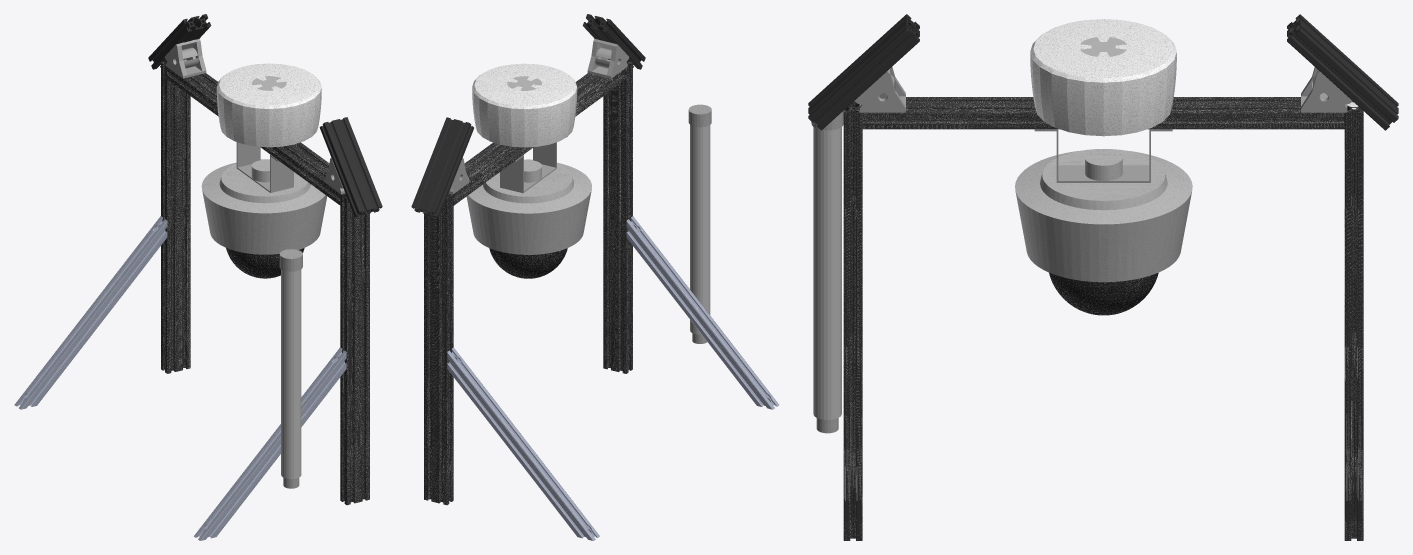
Rendered from sensorArch.dae.
3 renders of one model, left to right at view 1: azimuth 30°, elevation 25°; view 2: azimuth 150°, elevation 25°; view 3: azimuth 270°, elevation 25°, orthographic. The views are drawn at different scales.
Visible parts, largest first — view 1: Component_5 (×6), Component2_1 (×2), Component_8 (×2), Component_9, Component_6 (×2); view 2: Component_5 (×6), Component2_1 (×2), Component_8 (×2), Component_9, Component_6 (×2); view 3: Component_5 (×3), Component2_1 (×3), Component_8 (×2), Component_6 (×4), Component_9.
Boxes of the visible parts, bbox=[...] form: Component_5 (×6): bbox=[14, 58, 369, 540]; Component2_1 (×2): bbox=[201, 159, 327, 278]; Component_8 (×2): bbox=[148, 14, 382, 217]; Component_9: bbox=[236, 142, 293, 192]; Component_6 (×2): bbox=[164, 39, 206, 78]; Component_5 (×6): bbox=[424, 58, 779, 540]; Component2_1 (×2): bbox=[466, 159, 591, 278]; Component_8 (×2): bbox=[411, 14, 645, 217]; Component_9: bbox=[500, 142, 556, 193]; Component_6 (×2): bbox=[587, 39, 629, 78]; Component_5 (×3): bbox=[813, 19, 1363, 540]; Component2_1 (×3): bbox=[1015, 149, 1192, 315]; Component_8 (×2): bbox=[808, 14, 1398, 130]; Component_6 (×4): bbox=[854, 67, 1352, 112]; Component_9: bbox=[1034, 129, 1172, 182].
Bounding box in the file's own units: 14.32 × 24.59 × 23.5.
